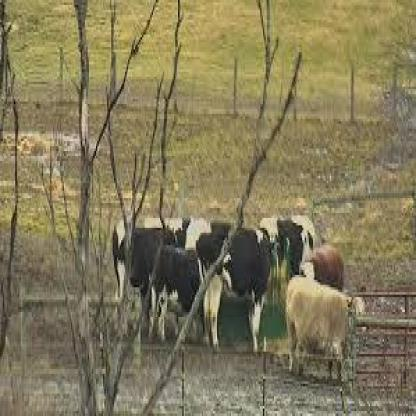cow: (195, 223, 275, 349), (113, 214, 211, 301), (282, 276, 348, 380), (118, 225, 177, 317), (150, 244, 201, 343), (260, 214, 315, 276), (309, 245, 344, 292)
